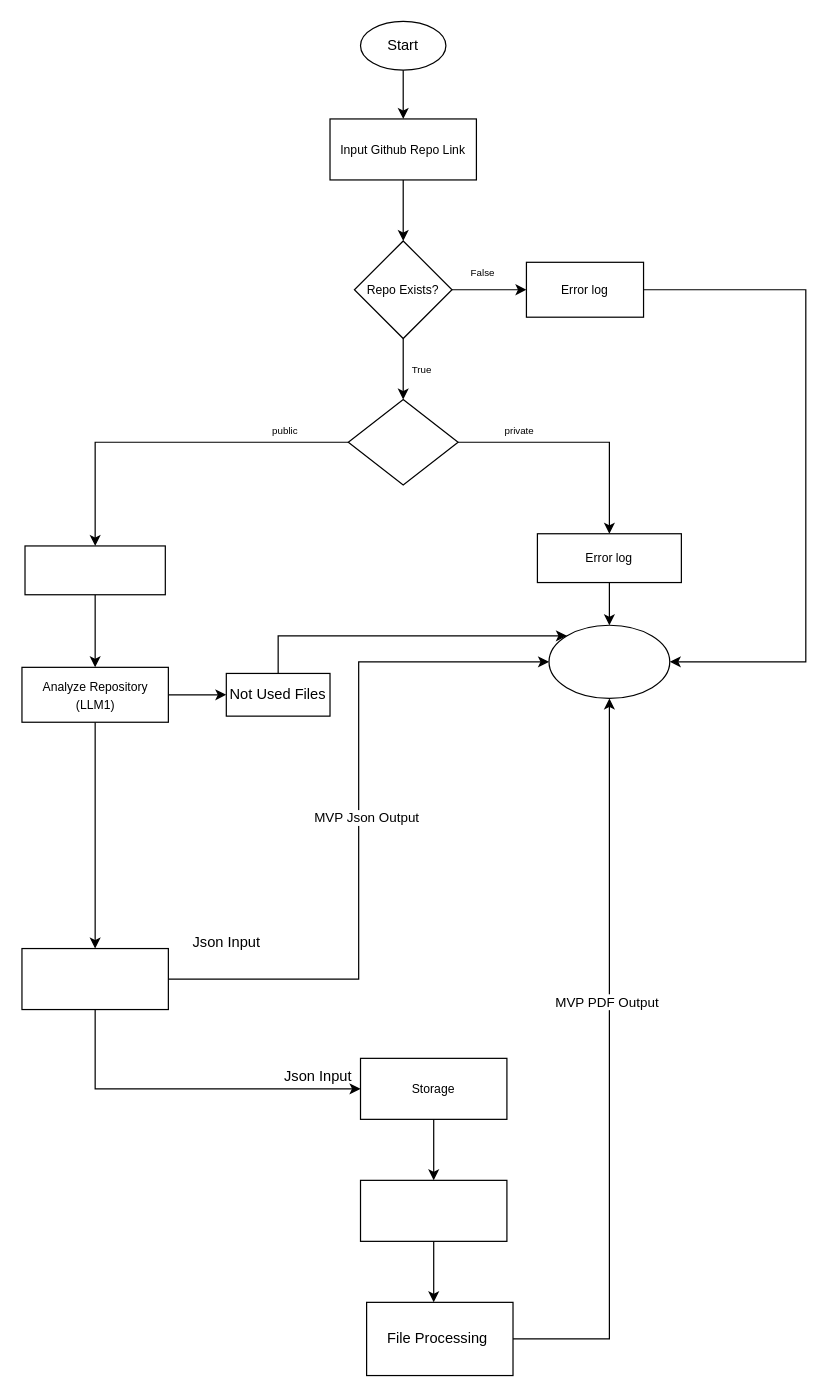
Some shapes in this 837 by 1397 pixel diagram are drawn without their labels. Each missing label, with the box of its shape:
Check Repo Type: (347, 398, 458, 485)
End: (548, 624, 670, 698)
Generate Migration Plan (LLM3): (359, 1179, 507, 1241)
Generate Report (LLM2): (21, 947, 168, 1010)
Scan & Fetch Github Code: (24, 545, 165, 595)
